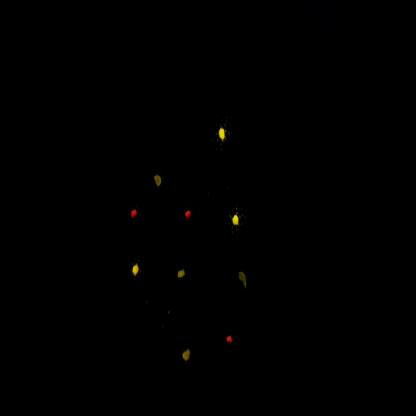PE: (225, 201, 247, 241), (215, 121, 234, 150), (129, 254, 146, 283)
PET: (126, 201, 145, 228), (182, 201, 197, 232), (224, 330, 239, 354)
PP: (176, 342, 198, 380), (235, 256, 253, 299), (152, 166, 171, 200), (175, 257, 189, 284)
